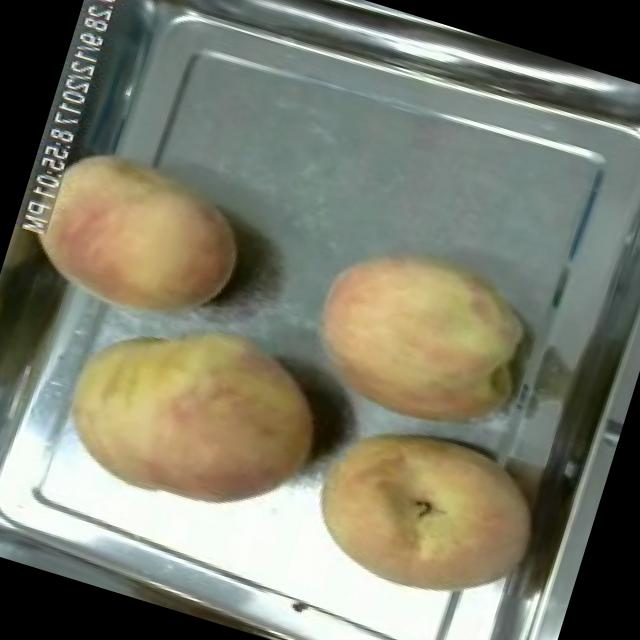Fruit: (36, 278, 348, 545), (290, 392, 566, 630), (282, 215, 550, 458), (7, 124, 267, 350)
